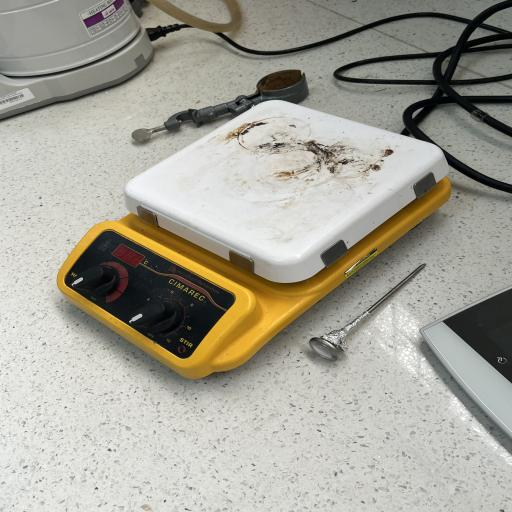Plancha_Agitacion_Cimarec: (52, 94, 462, 389)
